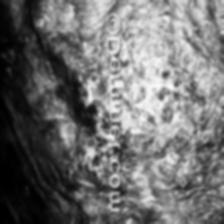Potentially Malignant Skin Tumors: (80, 98, 114, 174), (152, 54, 176, 126), (127, 80, 150, 110)
